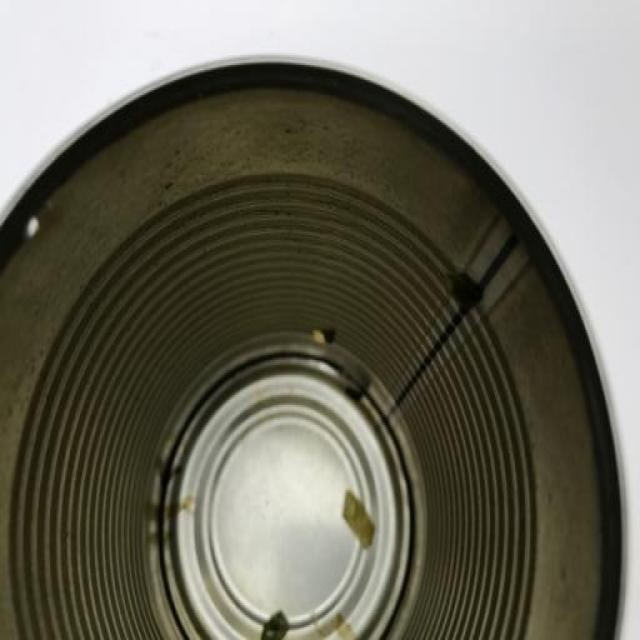metel: (1, 42, 640, 640)
